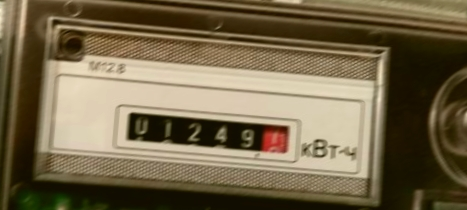0: (133, 115, 148, 136)
1: (159, 118, 173, 140)
2: (184, 121, 202, 144)
4: (213, 123, 228, 144)
7: (267, 125, 282, 146)
9: (239, 127, 254, 150)
screen: (109, 100, 304, 167)
